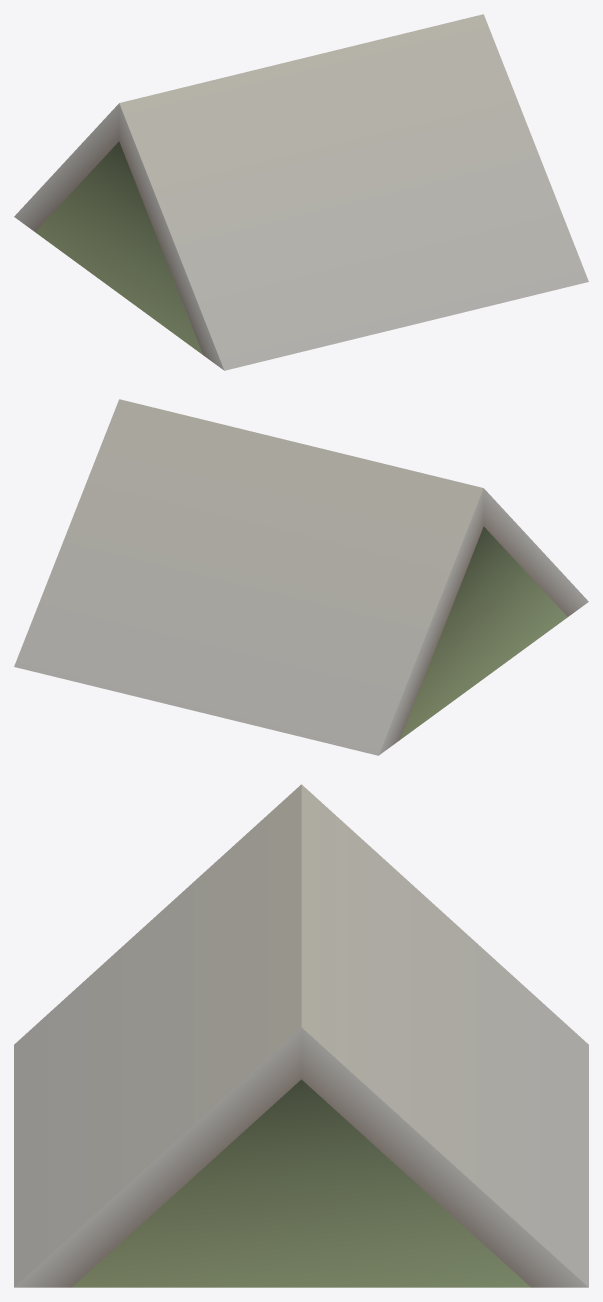
The model's file is wall-b-roof.glb.
The picture shows the model from 3 angles, top to bottom: view 1: azimuth 30°, elevation 25°; view 2: azimuth 150°, elevation 25°; view 3: azimuth 270°, elevation 25°; orthographic projection. The views are drawn at different scales.
Parts seen in each view (by area): view 1: wall-b-roof; view 2: wall-b-roof; view 3: wall-b-roof.
Part boxes in pixels (x1,y1,x2,y2): wall-b-roof: [14, 14, 588, 370]; wall-b-roof: [14, 399, 588, 755]; wall-b-roof: [14, 784, 588, 1287].
Size of the model in its own units: 1 by 0.5 by 1.
